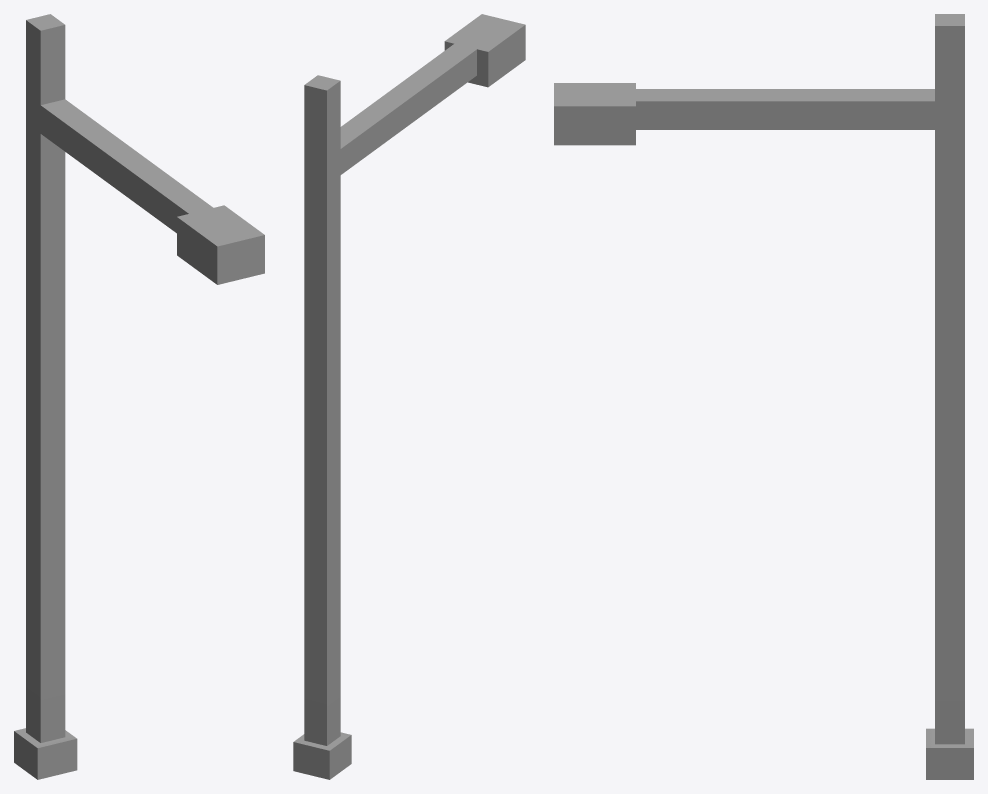
Rendered from Lamp.FBX.
The picture shows the model from 3 angles, left to right: view 1: azimuth 30°, elevation 25°; view 2: azimuth 150°, elevation 25°; view 3: azimuth 270°, elevation 25°; orthographic projection. The views are drawn at different scales.
Parts seen in each view (by area): view 1: Box001; view 2: Box001; view 3: Box001.
Part boxes in pixels (x1,y1,x2,y2): Box001: (14, 14, 264, 779); Box001: (293, 14, 525, 779); Box001: (554, 14, 973, 779).
Bounding box in the file's own units: 1.12 × 16.79 × 8.51.
